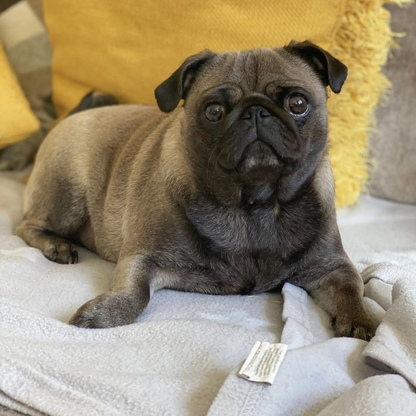Pug: (9, 35, 379, 347)
